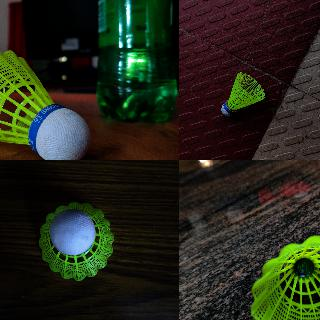shuttlecock: (0, 49, 92, 159), (38, 201, 112, 281), (250, 235, 319, 319), (222, 72, 266, 116)
